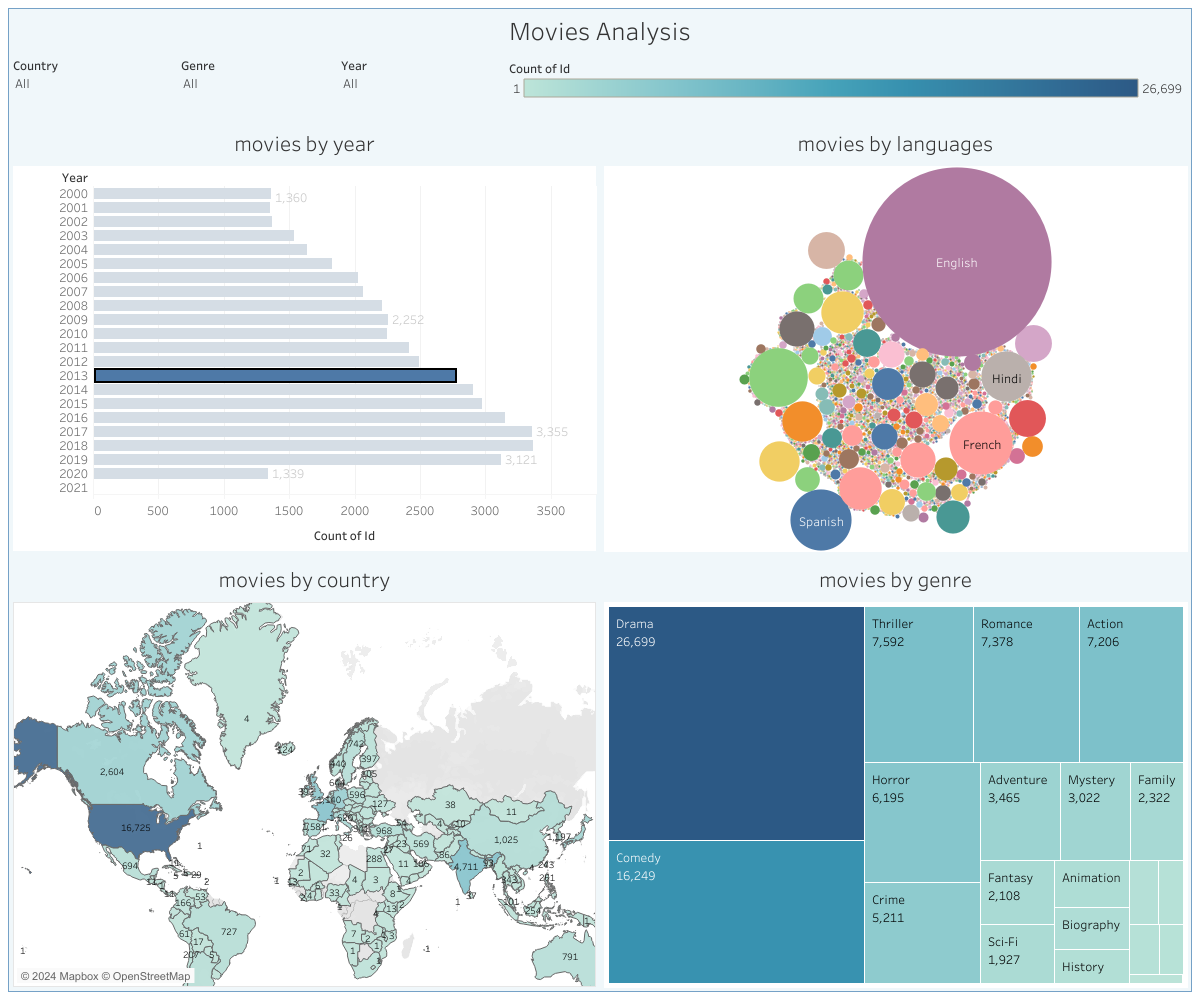

Layout of this report page (visuals, bound fields, positions):
{"tool":"tableau","page":{"name":"Dashboard 1","canvas":[1200,1000],"ordinal":0},"visuals":[{"type":"title","box":[9,9,1182,42]},{"type":"filter","title":"movies by year","param":"[federated.10q91t50vgzldx19wd8ig1epi52t].[none:country:nk]","box":[9,51,168,65]},{"type":"filter","title":"movies by year","param":"[federated.10q91t50vgzldx19wd8ig1epi52t].[none:genre:nk]","box":[177,51,160,52]},{"type":"filter","title":"movies by year","param":"[federated.10q91t50vgzldx19wd8ig1epi52t].[none:year:ok]","box":[337,51,168,65]},{"type":"legend","title":"movies by genre","param":"[federated.10q91t50vgzldx19wd8ig1epi52t].[cnt:id:qk]","box":[505,51,686,65]},{"type":"worksheet","title":"movies by year","mark":"Automatic","rows":["year"],"cols":["id"],"box":[9,116,591,437.5]},{"type":"worksheet","title":"movies by languages","mark":"Circle","box":[600,116,591,437.5]},{"type":"worksheet","title":"movies by country","mark":"Automatic","box":[9,553.5,591,437.5]},{"type":"worksheet","title":"movies by genre","mark":"Automatic","box":[600,553.5,591,437.5]}]}

Visuals, with their boxes in screenshot pixels (x1, y1, x2, y2), scaled from the page's 1200x1000 canvas onto the 1199x999 screenshot:
title: bbox(9, 9, 1190, 51)
"movies by year" filter: bbox(9, 51, 177, 116)
"movies by year" filter: bbox(177, 51, 337, 103)
"movies by year" filter: bbox(337, 51, 505, 116)
"movies by genre" legend: bbox(505, 51, 1190, 116)
"movies by year" worksheet: bbox(9, 116, 600, 553)
"movies by languages" worksheet (Circle marks): bbox(600, 116, 1190, 553)
"movies by country" worksheet: bbox(9, 553, 600, 990)
"movies by genre" worksheet: bbox(600, 553, 1190, 990)
